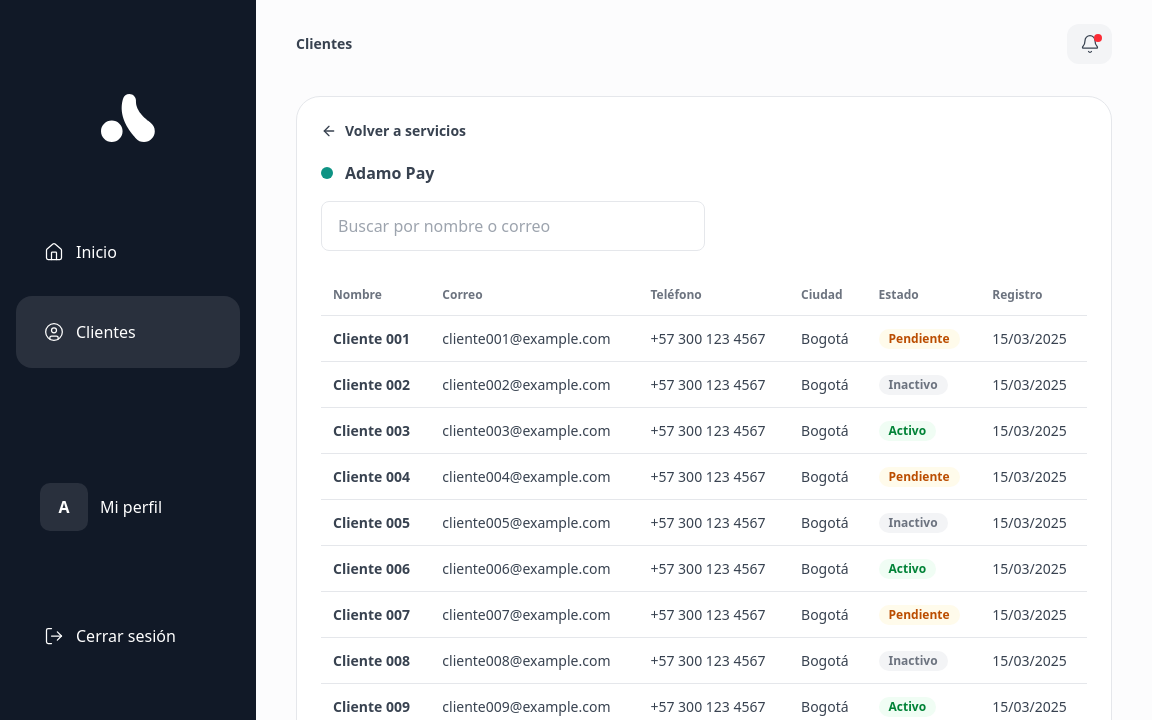
it: ServiceClientsPage › búsqueda › sin coincidencias lo dice con el texto buscado
Expected: the heading "Adamo Pay" is shown, left=345, top=161, right=434, bottom=185
Type "zzzz" into the search field at (513, 226), box left=321, top=201, right=705, bottom=251
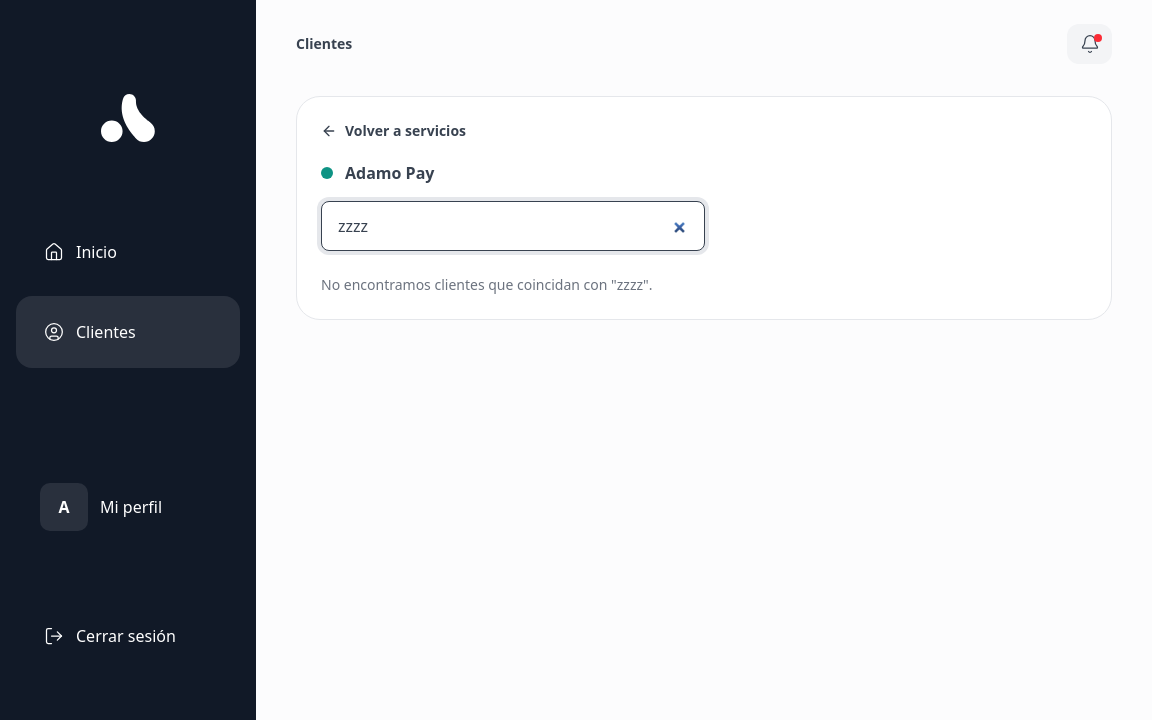
Result: the text "No encontramos clientes que coincidan con \"zzzz\"." is shown at left=321, top=275, right=653, bottom=294
